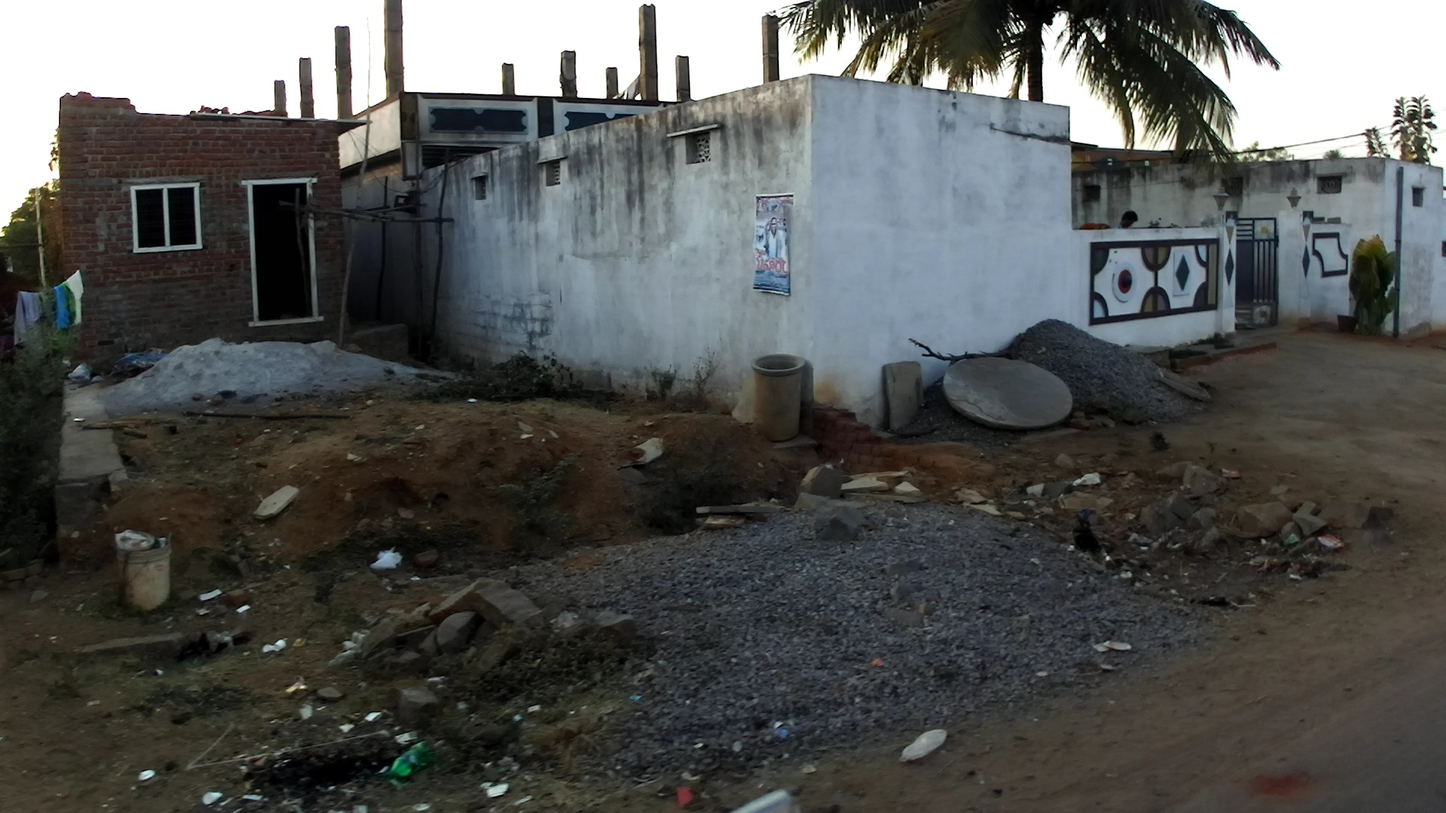person: (1110, 210, 1138, 231)
